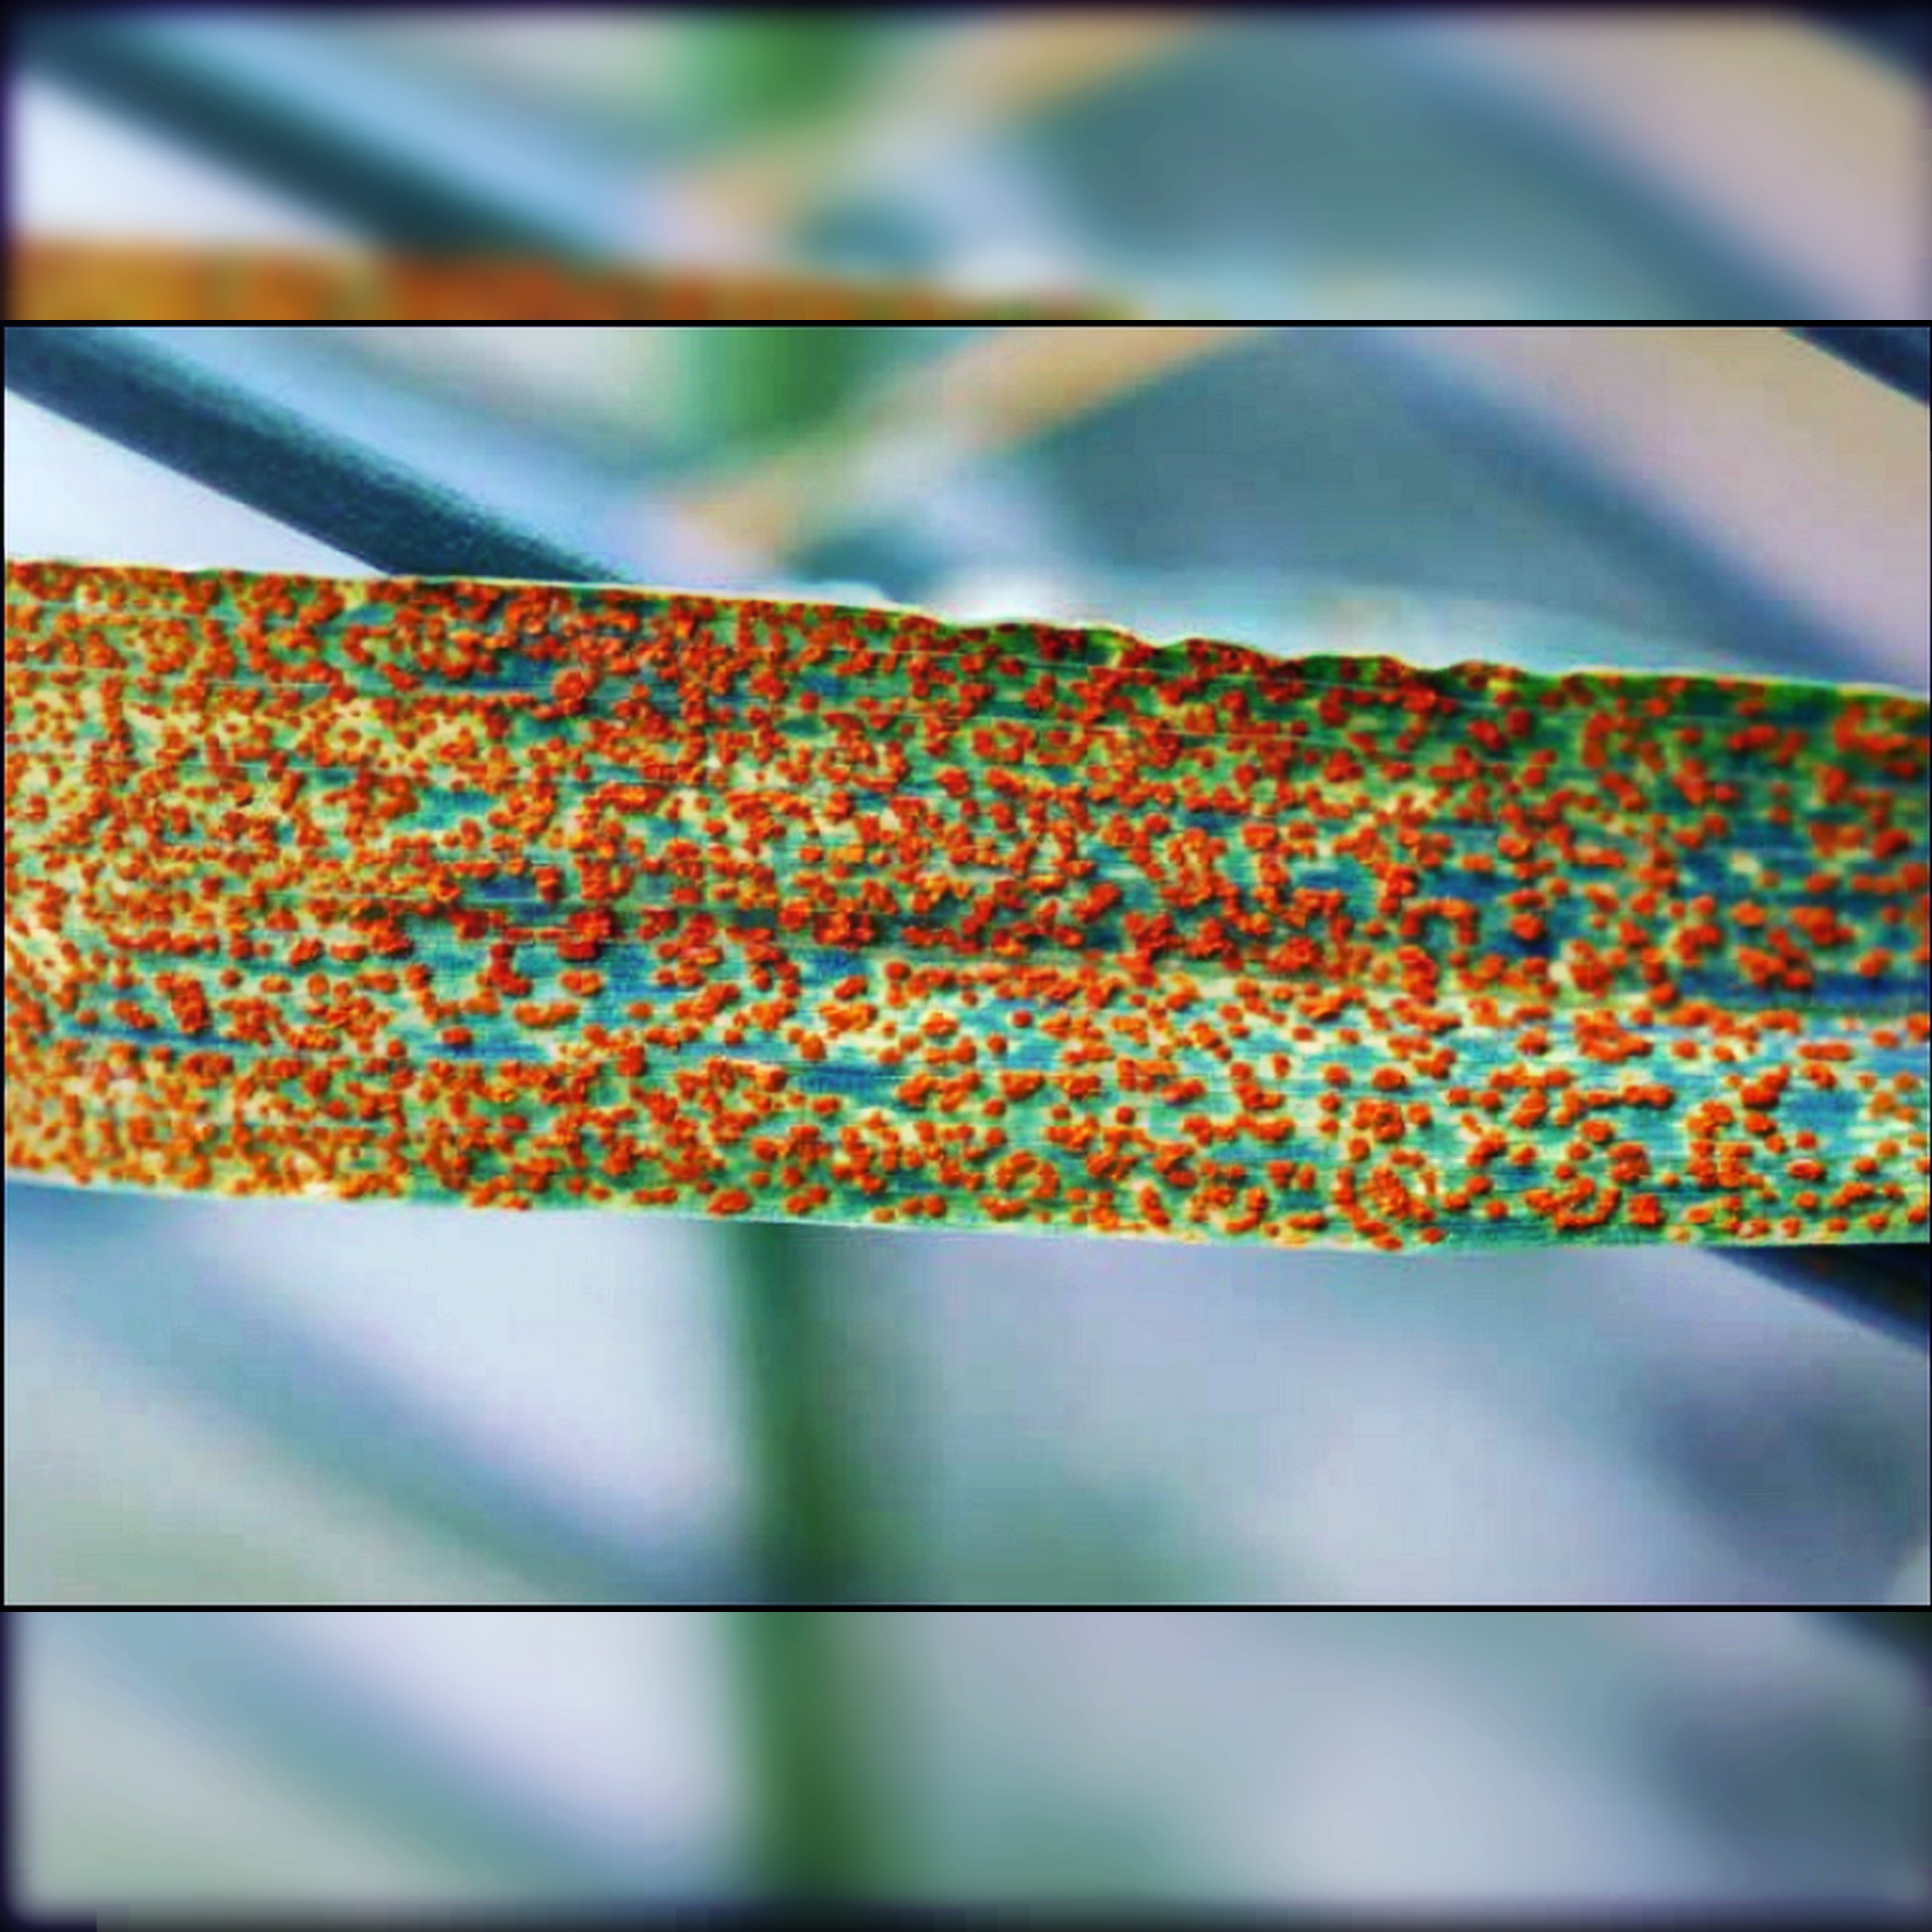Leaf Rust: (19, 536, 1932, 1265)
